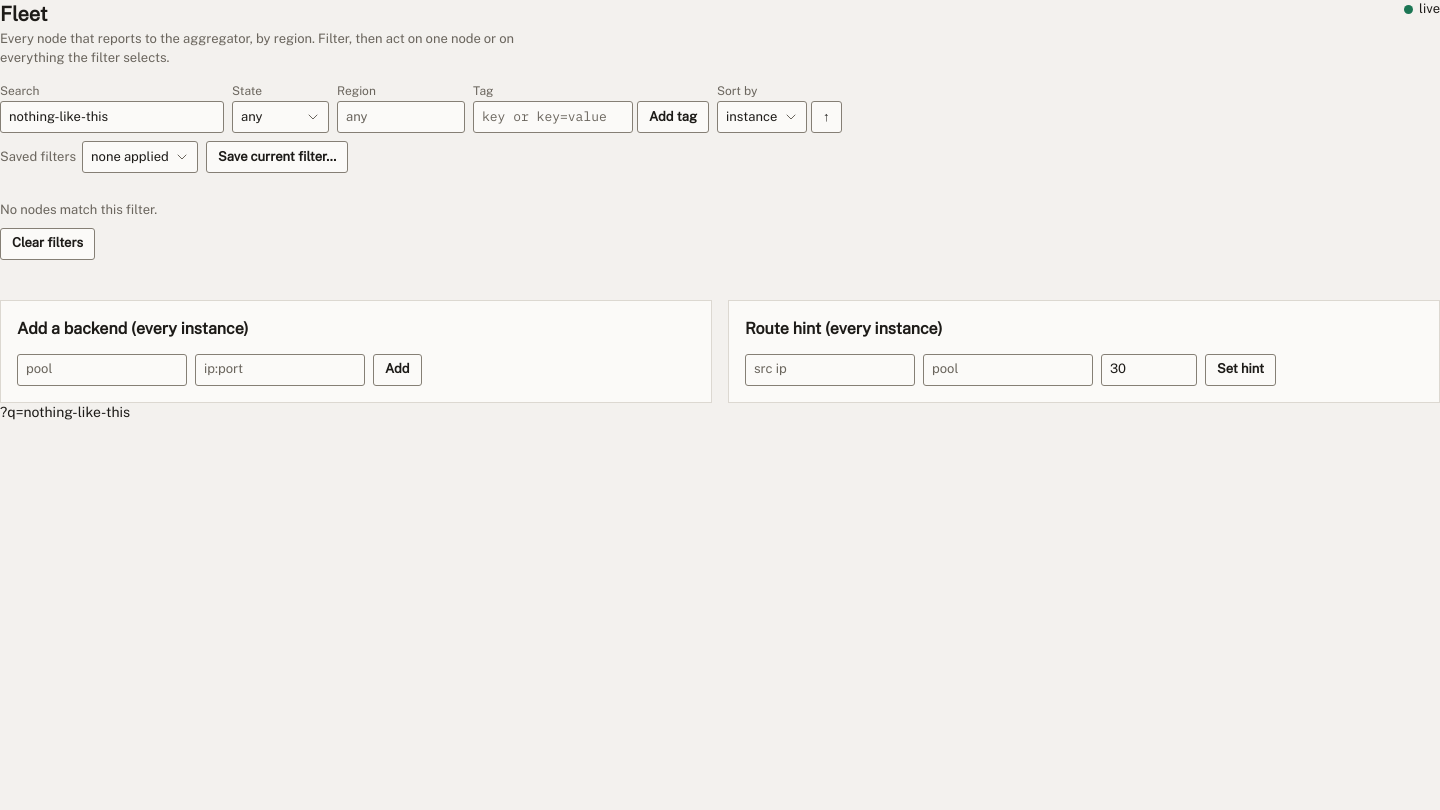
Test case: Fleet page with 500 nodes › says when nothing matches and offers to clear the filter
Expected: the text "No nodes match this filter." is shown, [0,202,157,217]
Click the button "Clear filters": point(48, 244) [0,228,95,260]
(page scrolled)
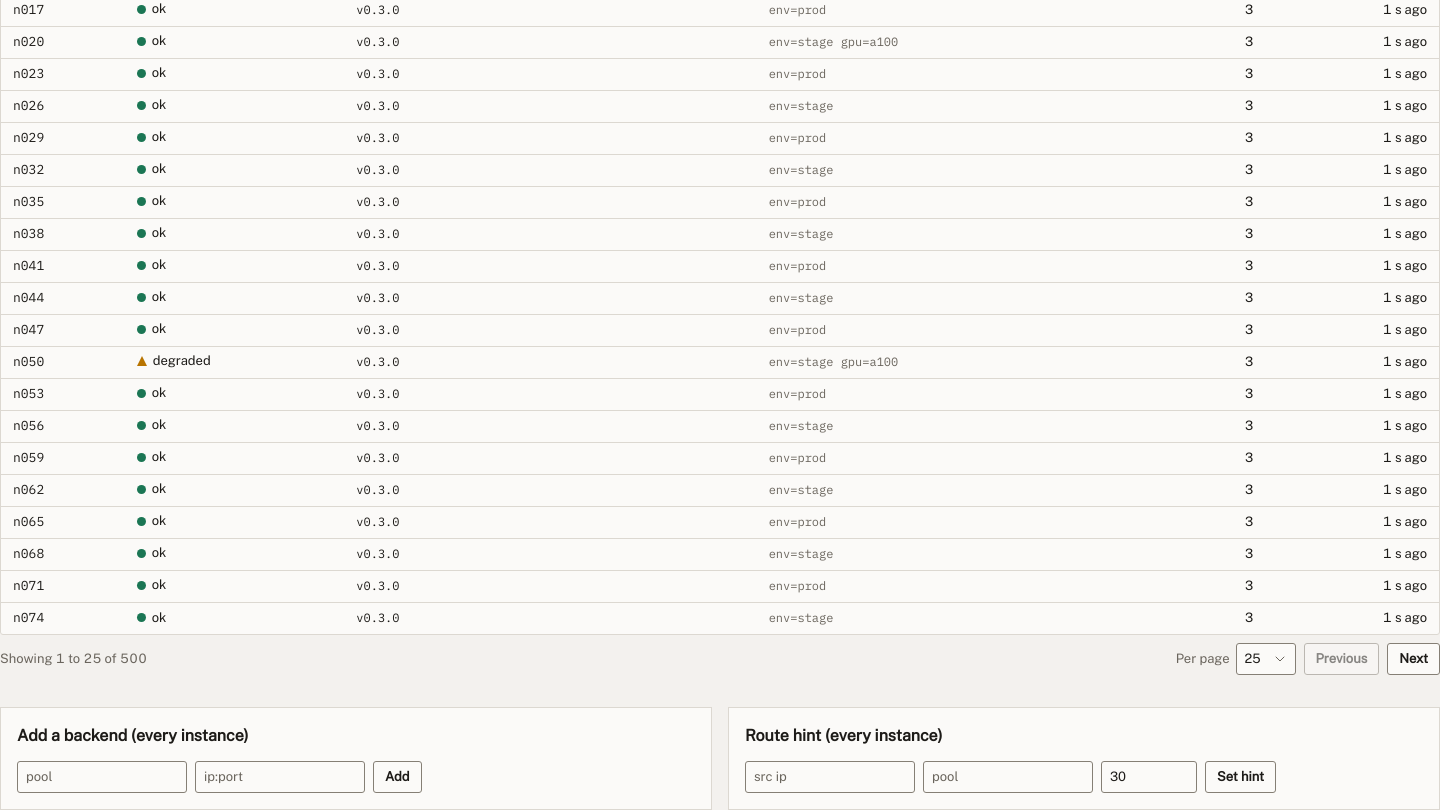
Expected: the text "Showing 1 to 25 of 500" is shown, [0,650,147,668]
